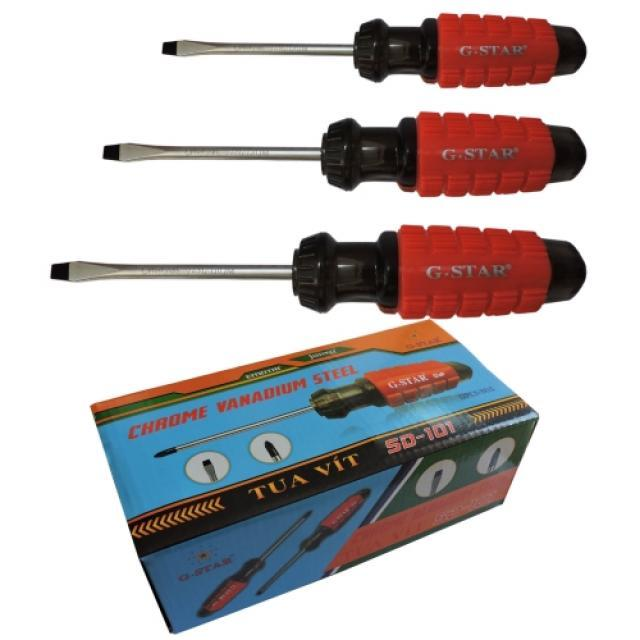screwdriver: (44, 224, 596, 324), (96, 106, 585, 204), (155, 12, 589, 90)
